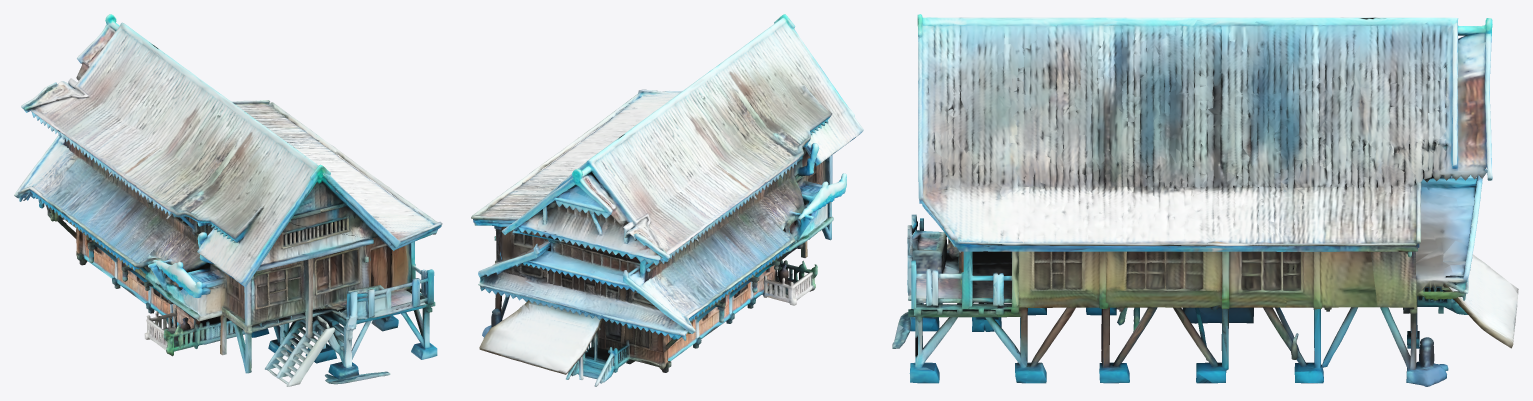
The model's file is banua-tada.glb.
3 renders of one model, left to right at view 1: azimuth 30°, elevation 25°; view 2: azimuth 150°, elevation 25°; view 3: azimuth 270°, elevation 25°, orthographic. The views are drawn at different scales.
Visible parts, largest first — view 1: Rumah adat banua tada; view 2: Rumah adat banua tada; view 3: Rumah adat banua tada.
Boxes of the visible parts, x1,y1,x2,y2 form: Rumah adat banua tada: (14, 14, 442, 386); Rumah adat banua tada: (471, 14, 863, 386); Rumah adat banua tada: (892, 14, 1518, 386).
Size of the model in its own units: 1.16 by 0.9925 by 1.9.
1 material, 1 textured.
